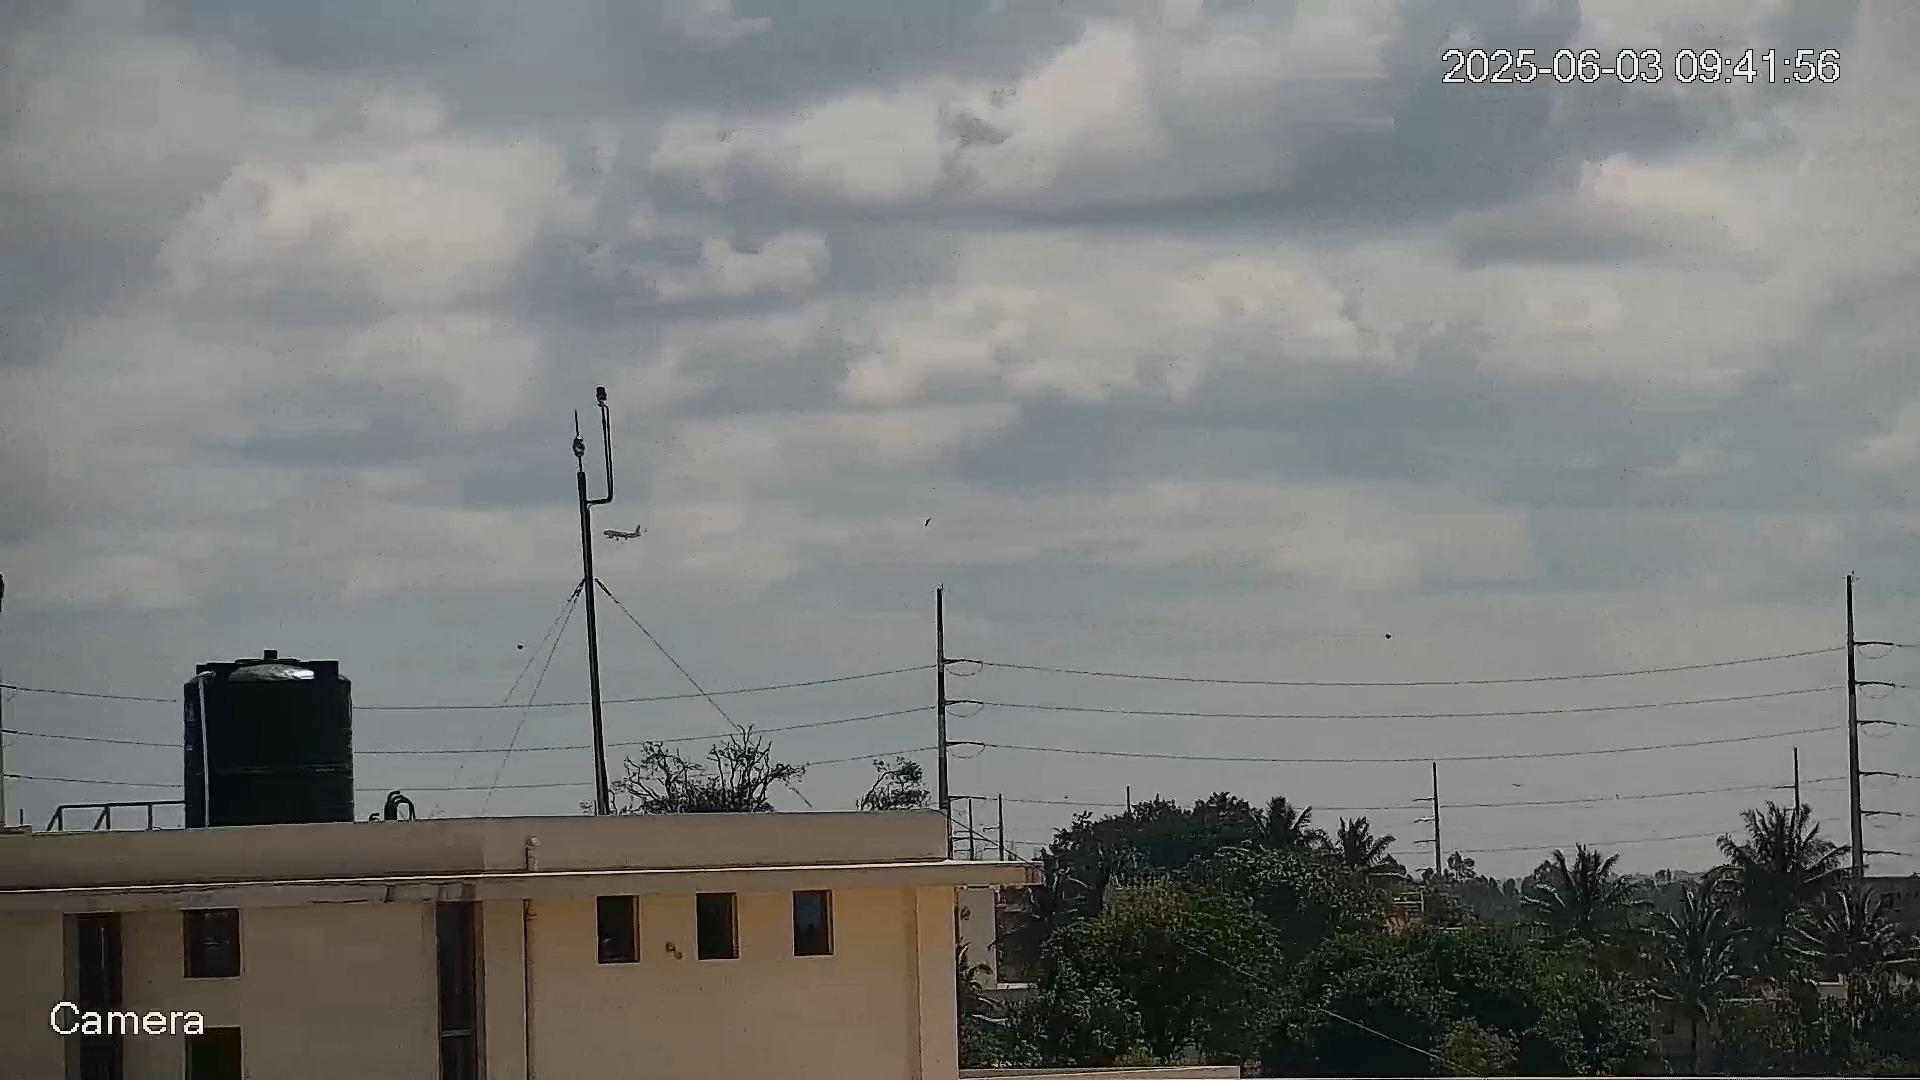Aircraft: (599, 524, 645, 543)
